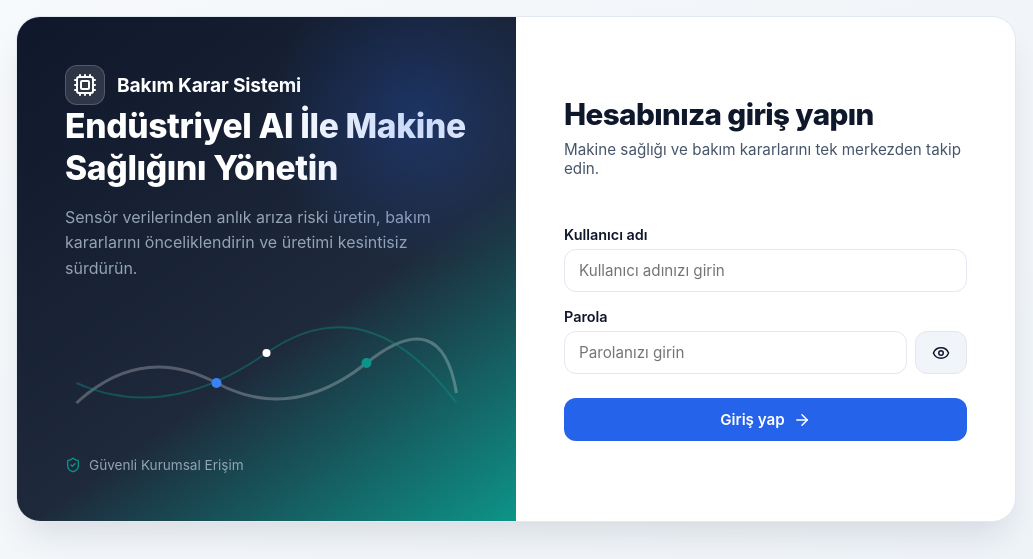
Test case: Login › form alanlarını ve erişilebilir parola görünürlüğünü sunar
The width and height of the screenshot is (1033, 559).
Check: the field labelled "Kullanıcı adı" is shown, box [564, 249, 967, 292]
What coordinates should you click on to do the following:
click the button named "Parolayı göster"
I would click on:
 (941, 353)
Its box is [915, 331, 967, 374].
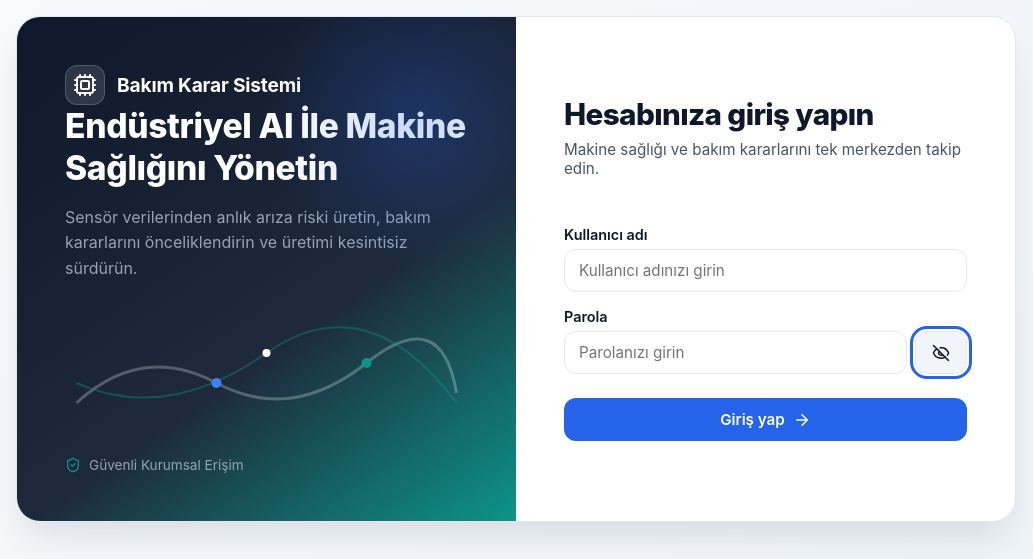
Check: the button named "Parolayı gizle" is shown, box [915, 331, 967, 374]
